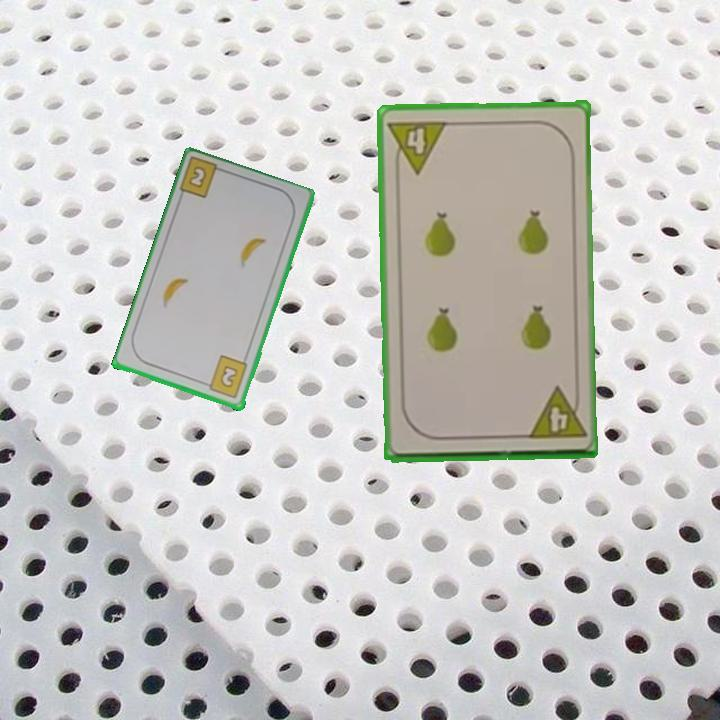2b: (200, 352, 251, 402), (176, 156, 229, 201)
4p: (385, 116, 450, 177), (524, 384, 589, 442)
